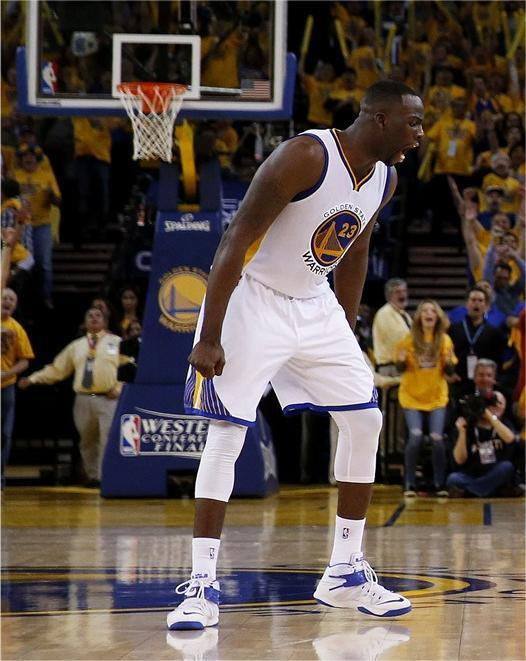bending: (139, 84, 437, 631)
